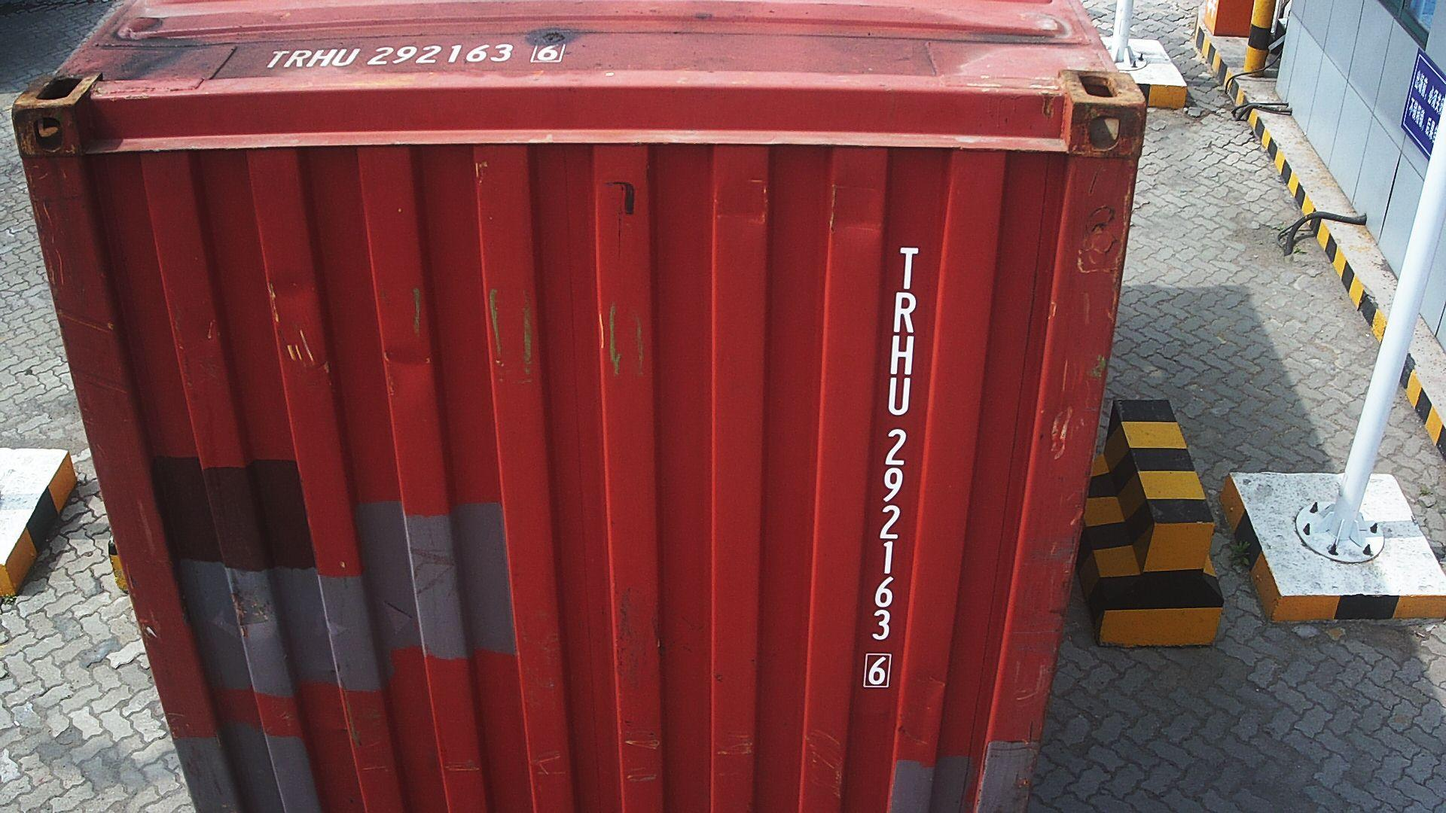container-numbers: (862, 239, 925, 692), (258, 39, 575, 72)
